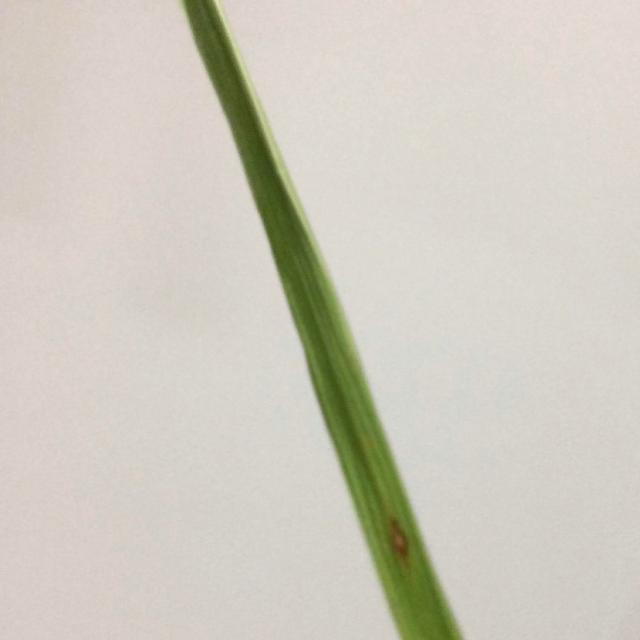Blast: (380, 519, 416, 564)
